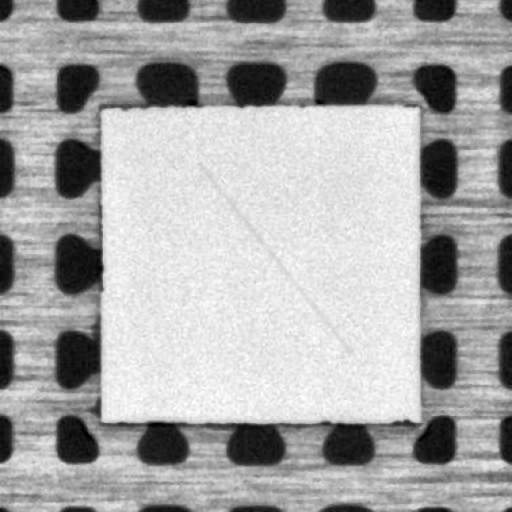DIE_CRACK: (197, 162, 350, 354)
